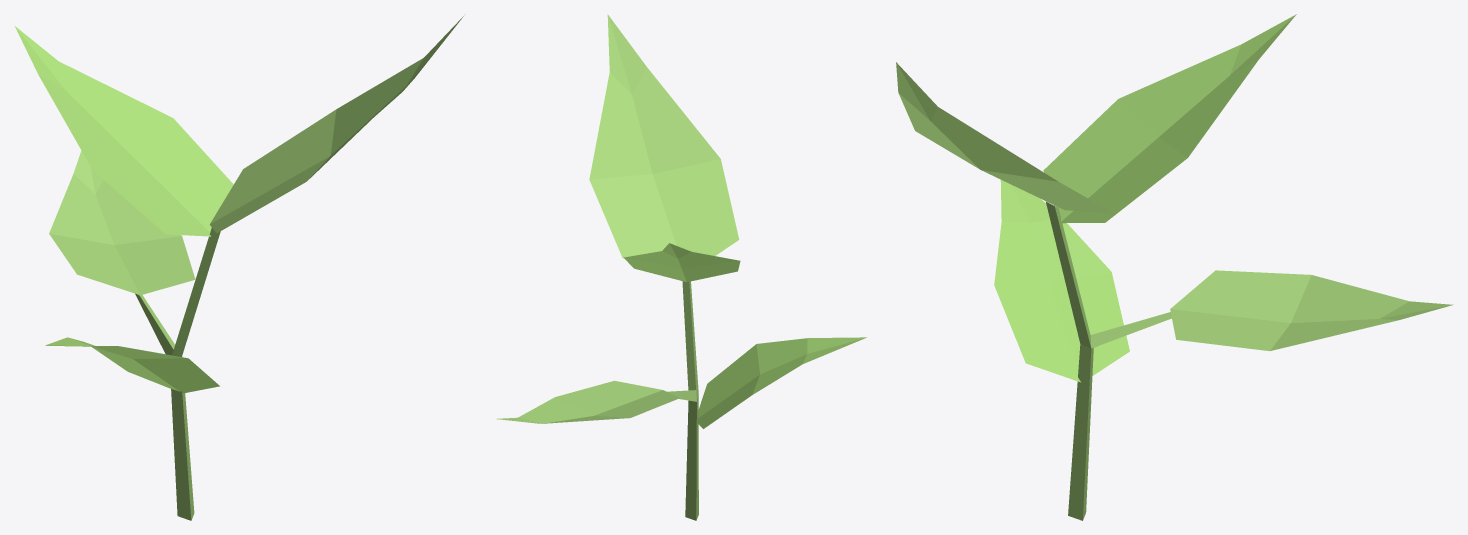
Rendered from Plant_f_OneS_05.fbx.
The picture shows the model from 3 angles, left to right: view 1: azimuth 30°, elevation 25°; view 2: azimuth 150°, elevation 25°; view 3: azimuth 270°, elevation 25°; orthographic projection. The views are drawn at different scales.
Visible parts, largest first — view 1: Plant_f_OneS_05; view 2: Plant_f_OneS_05; view 3: Plant_f_OneS_05.
Part boxes in pixels (x1,y1,x2,y2): Plant_f_OneS_05: (15, 16, 463, 520); Plant_f_OneS_05: (496, 14, 866, 520); Plant_f_OneS_05: (896, 14, 1453, 520).
Bounding box in the file's own units: 45.54 × 60.53 × 55.12.
